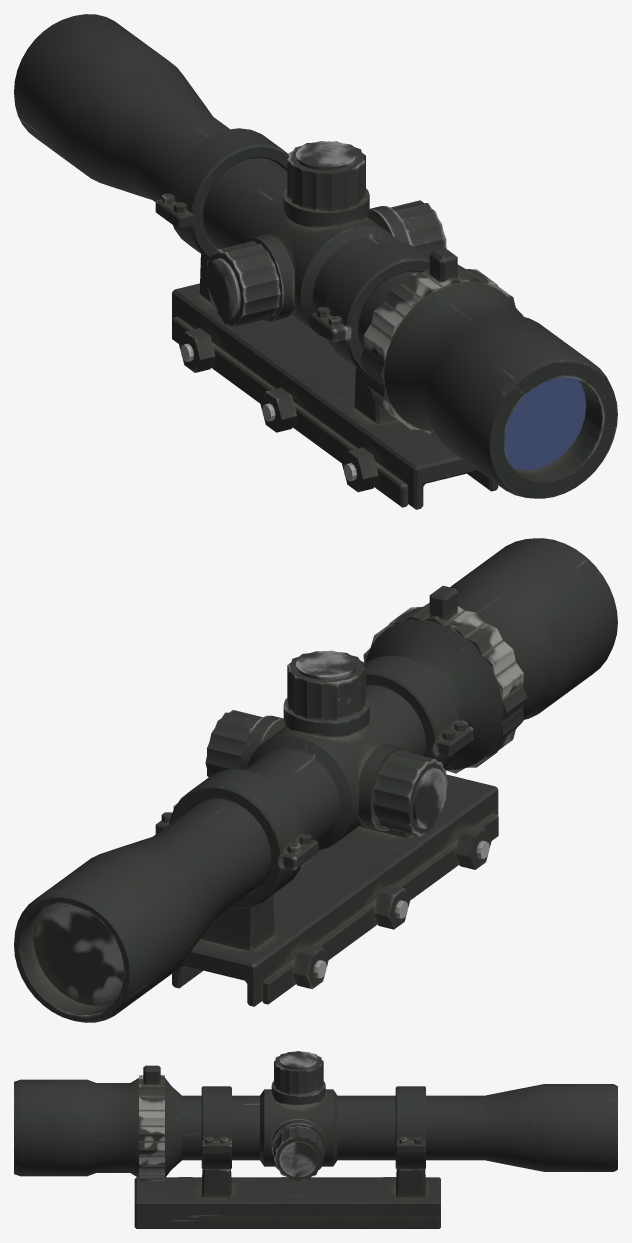
File: luneta_m4.glb
3 renders of one model, top to bottom at view 1: azimuth 30°, elevation 25°; view 2: azimuth 150°, elevation 25°; view 3: azimuth 270°, elevation 25°, orthographic. The views are drawn at different scales.
Visible parts, largest first — view 1: luneta_m4_luneta, luneta_m4_suporte_luneta; view 2: luneta_m4_luneta, luneta_m4_suporte_luneta; view 3: luneta_m4_luneta, luneta_m4_suporte_luneta.
Part boxes in pixels (x1=…): luneta_m4_luneta: x1=14, y1=14, x2=617, y2=498; luneta_m4_suporte_luneta: x1=155, y1=128, x2=498, y2=509; luneta_m4_luneta: x1=14, y1=538, x2=617, y2=1022; luneta_m4_suporte_luneta: x1=155, y1=655, x2=498, y2=1006; luneta_m4_luneta: x1=14, y1=1051, x2=617, y2=1181; luneta_m4_suporte_luneta: x1=134, y1=1086, x2=440, y2=1228.
Size of the model in its own units: 0.07 by 0.0809 by 0.28.
1 material, 1 textured.
